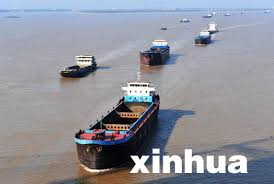boat: (70, 82, 164, 170), (58, 52, 99, 80), (137, 37, 172, 66)
